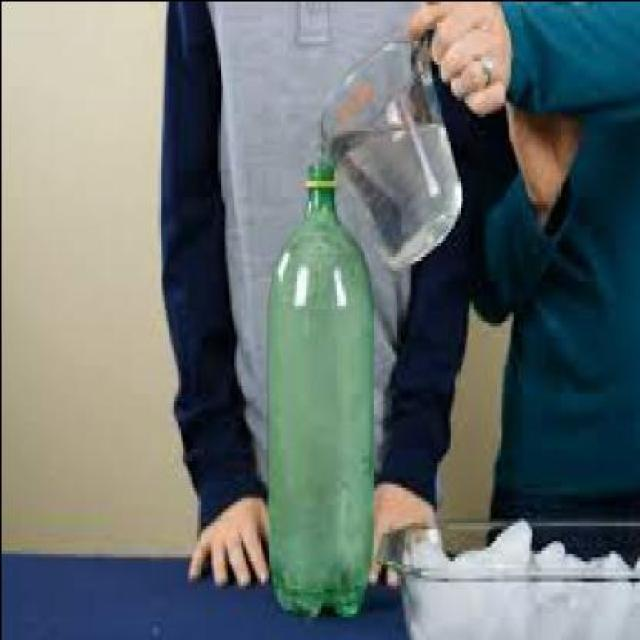GLASS: (314, 28, 457, 266), (370, 511, 638, 637)
PLASTIC: (260, 157, 368, 612)
